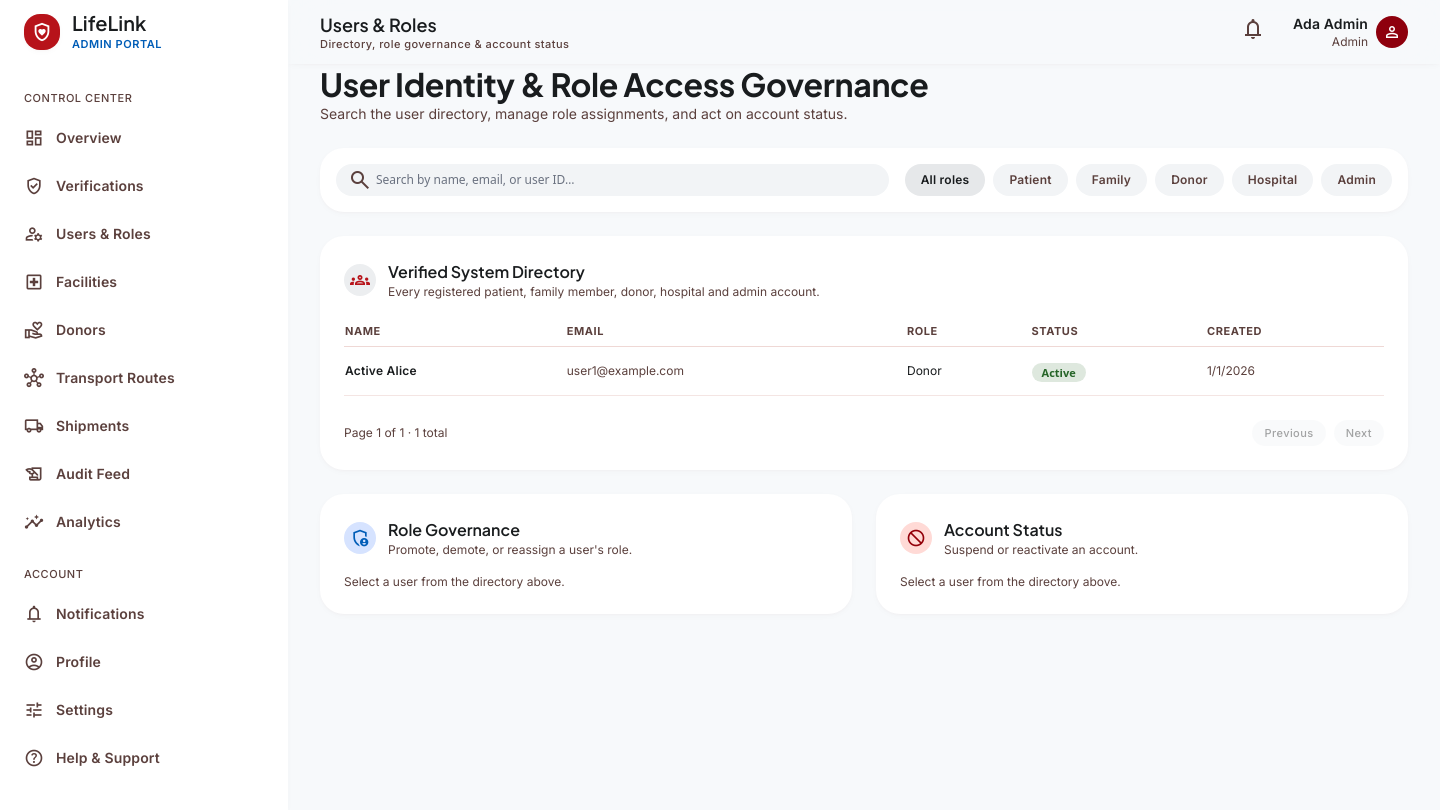
UserManagement -- suspend/reactivate flow › surfaces a real 404/409/server error on suspend through the existing normalized error mechanism, not a bespoke one
Later steps or results of the test are not shown.
Click the text "Active Alice": x=381, y=370 [344,346,566,396]
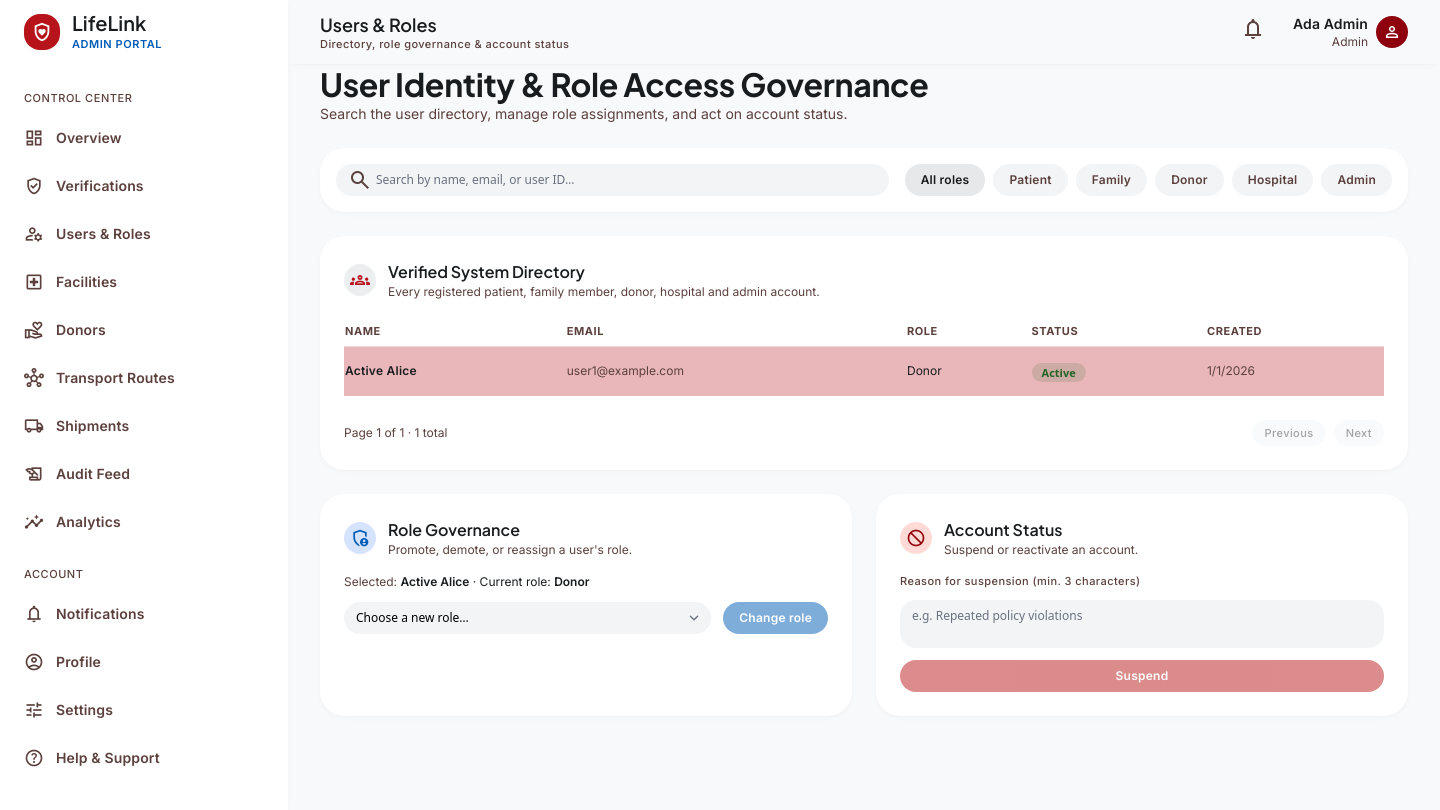
In the text box labelled "Reason for suspension (min. 3 characters)": x=1142, y=624 [900,600,1384,648], type "Repeated abuse"
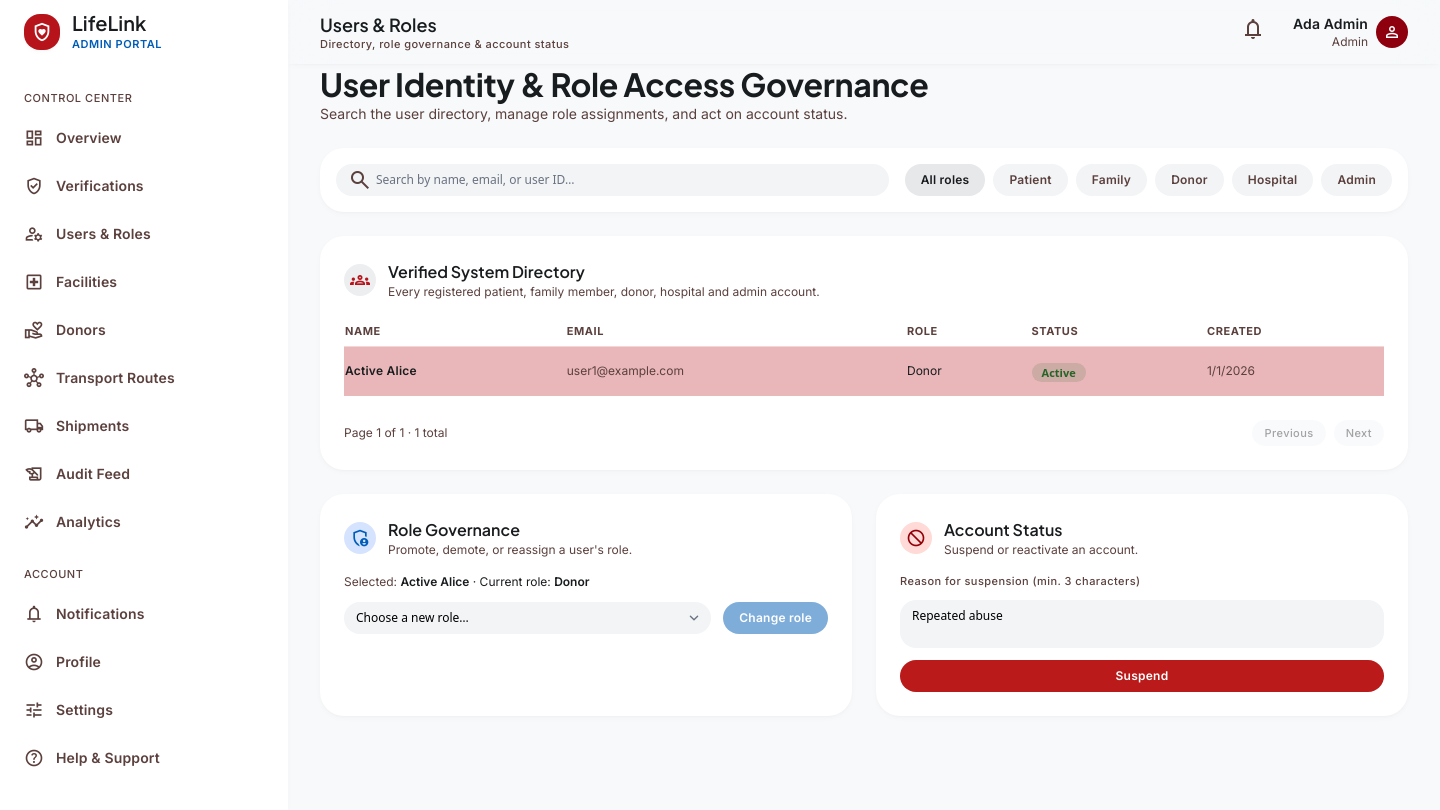
Click the button "Suspend": x=1142, y=676 [900,660,1384,692]
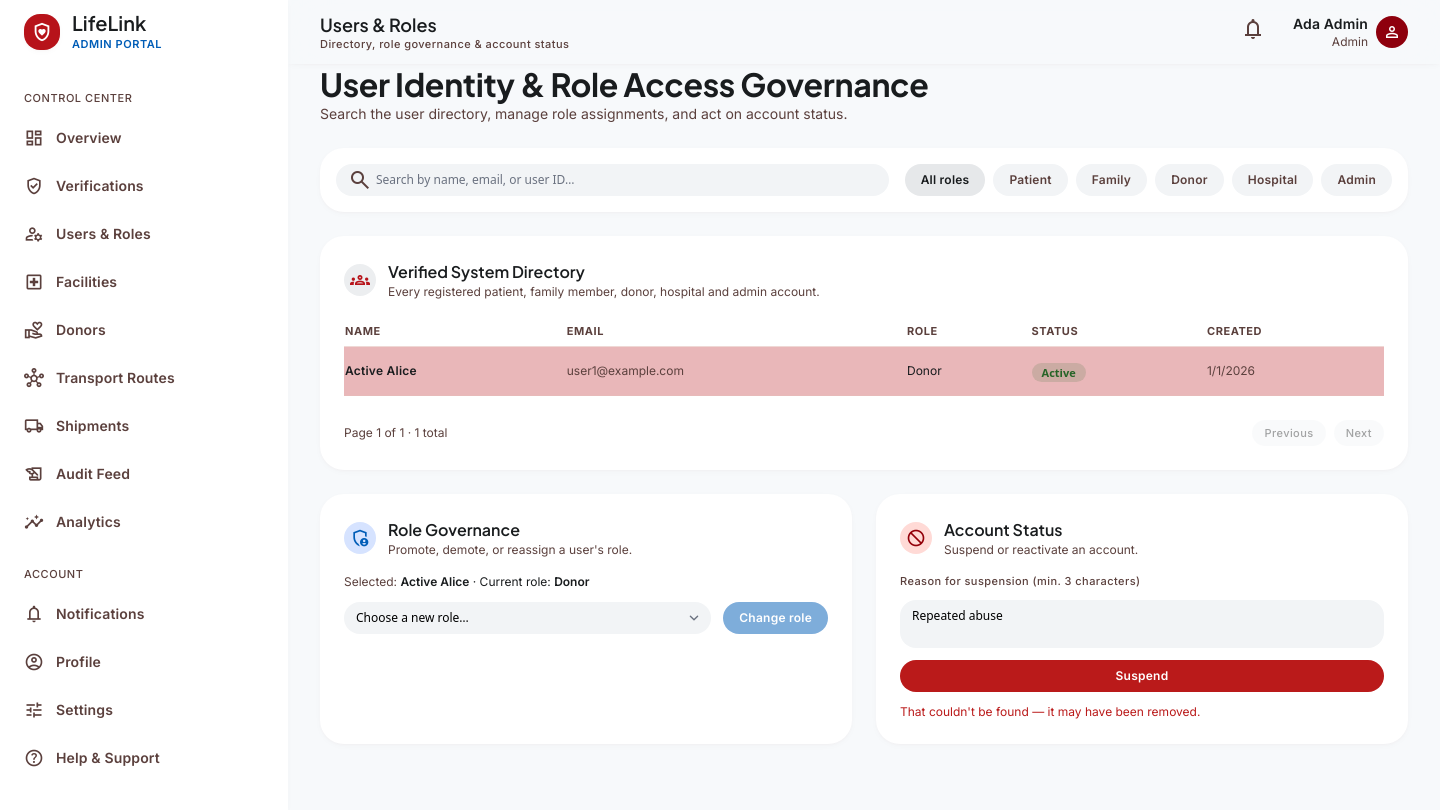
Now the text "That couldn't be found — it may have been removed." is shown, box [900,704,1200,719]
